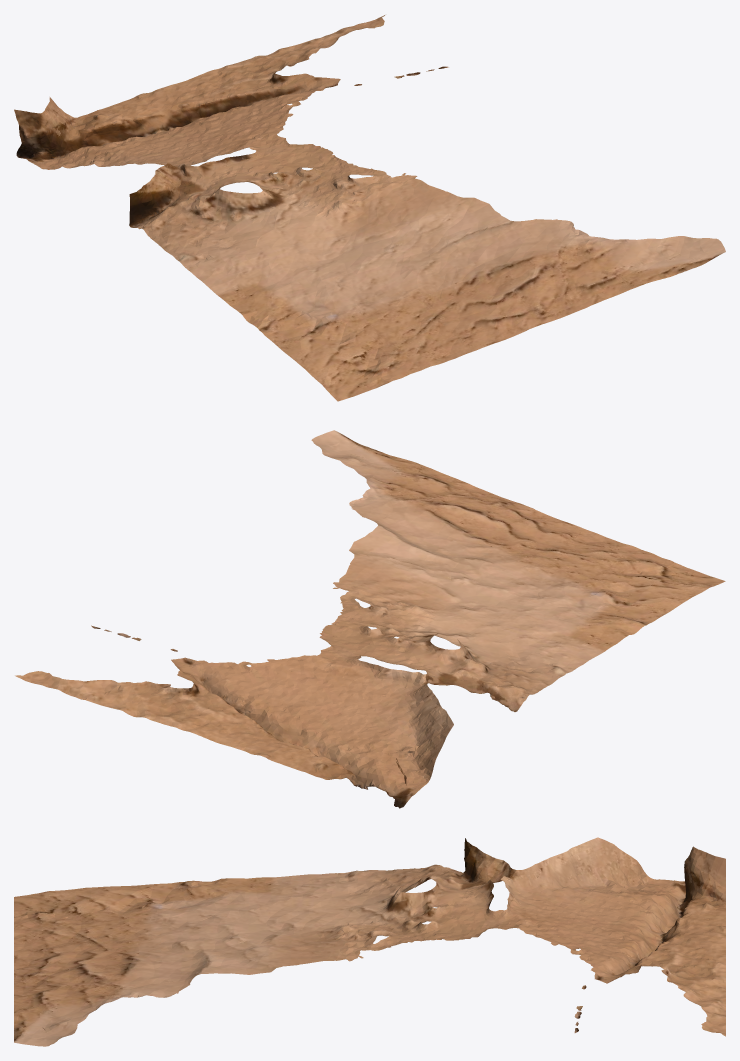
3 views of the same model, one above another, from view 1: azimuth 30°, elevation 25°; view 2: azimuth 150°, elevation 25°; view 3: azimuth 270°, elevation 25° (orthographic). The views are drawn at different scales.
Bounding box in the file's own units: 0.7262 × 0.0964 × 1.04.
Materials: 1 (1 with a texture image).
